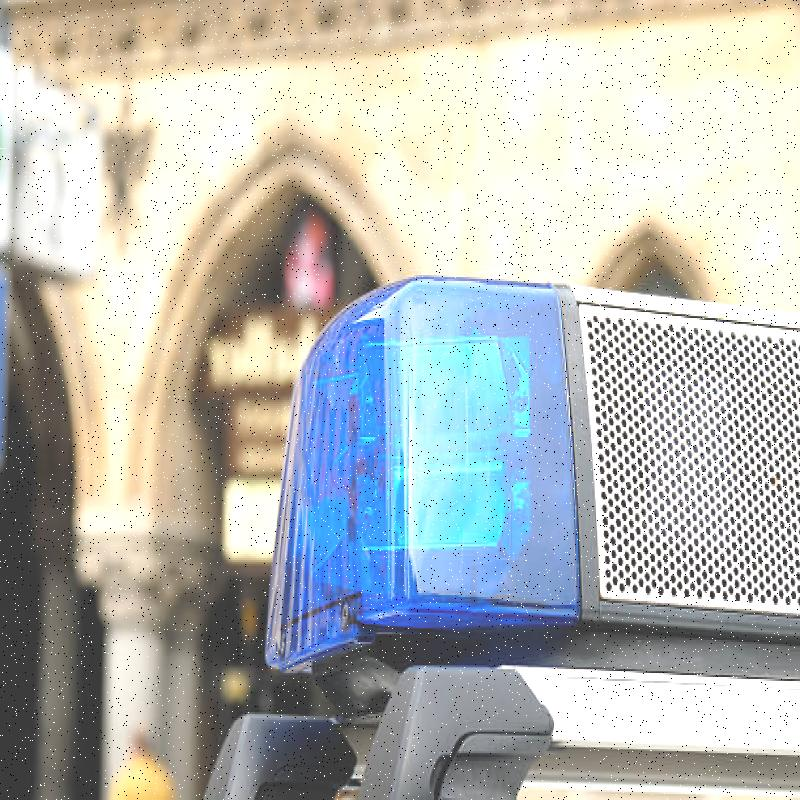AmbulanceSiren: (252, 247, 752, 674)
